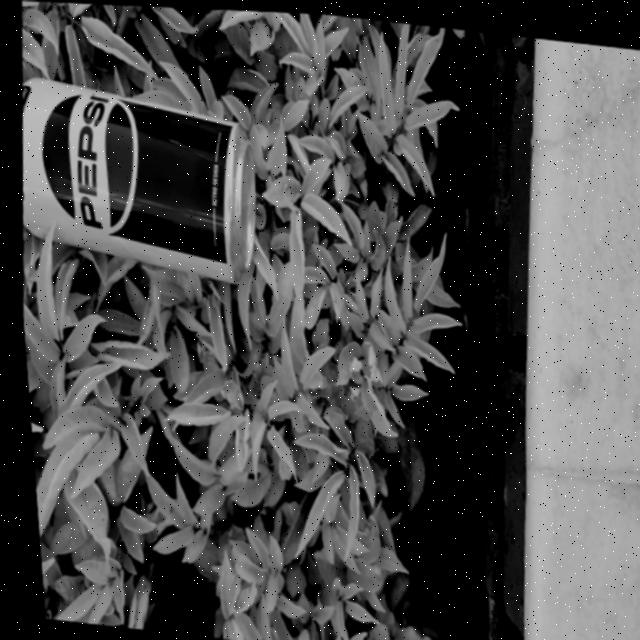Pepsi Retro: (7, 73, 264, 288)
